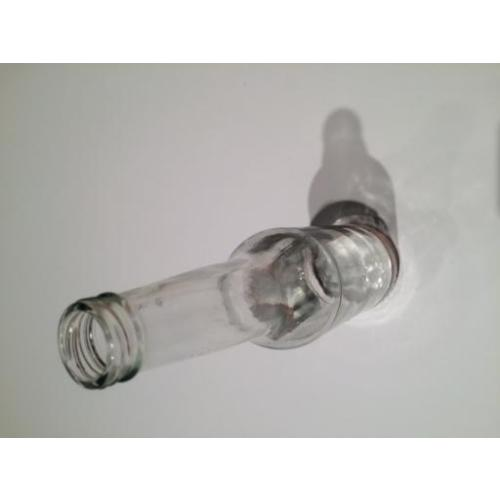glass: (62, 228, 396, 386)
